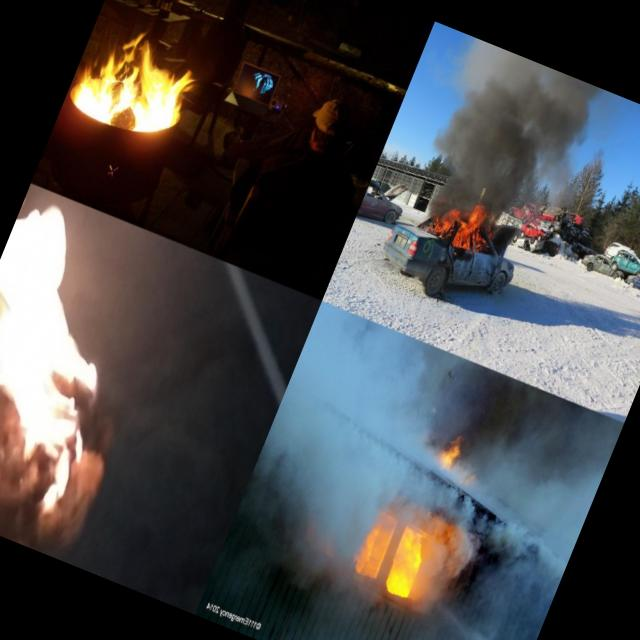fire: (0, 183, 169, 513), (65, 19, 207, 158), (342, 498, 442, 610), (420, 194, 502, 267), (430, 425, 468, 477)
smoke: (219, 306, 444, 604), (412, 37, 604, 243), (424, 478, 582, 612)
